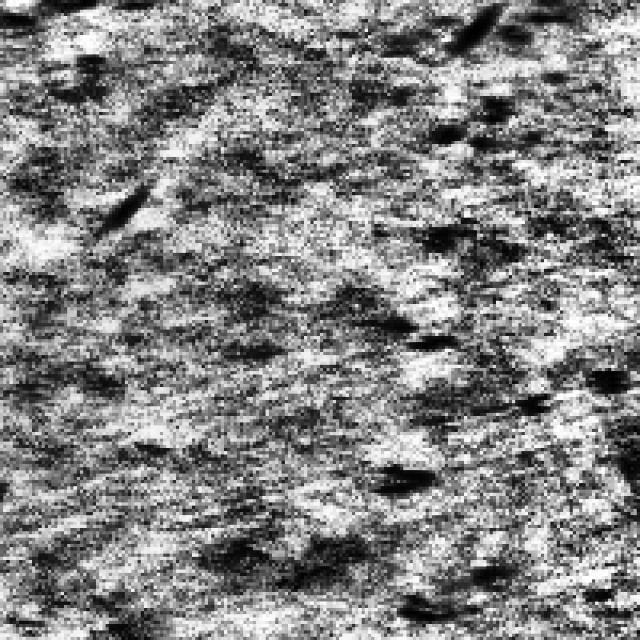Crazing: (352, 310, 509, 624), (422, 0, 570, 141)
